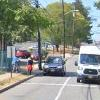cars: (42, 56, 68, 75)
